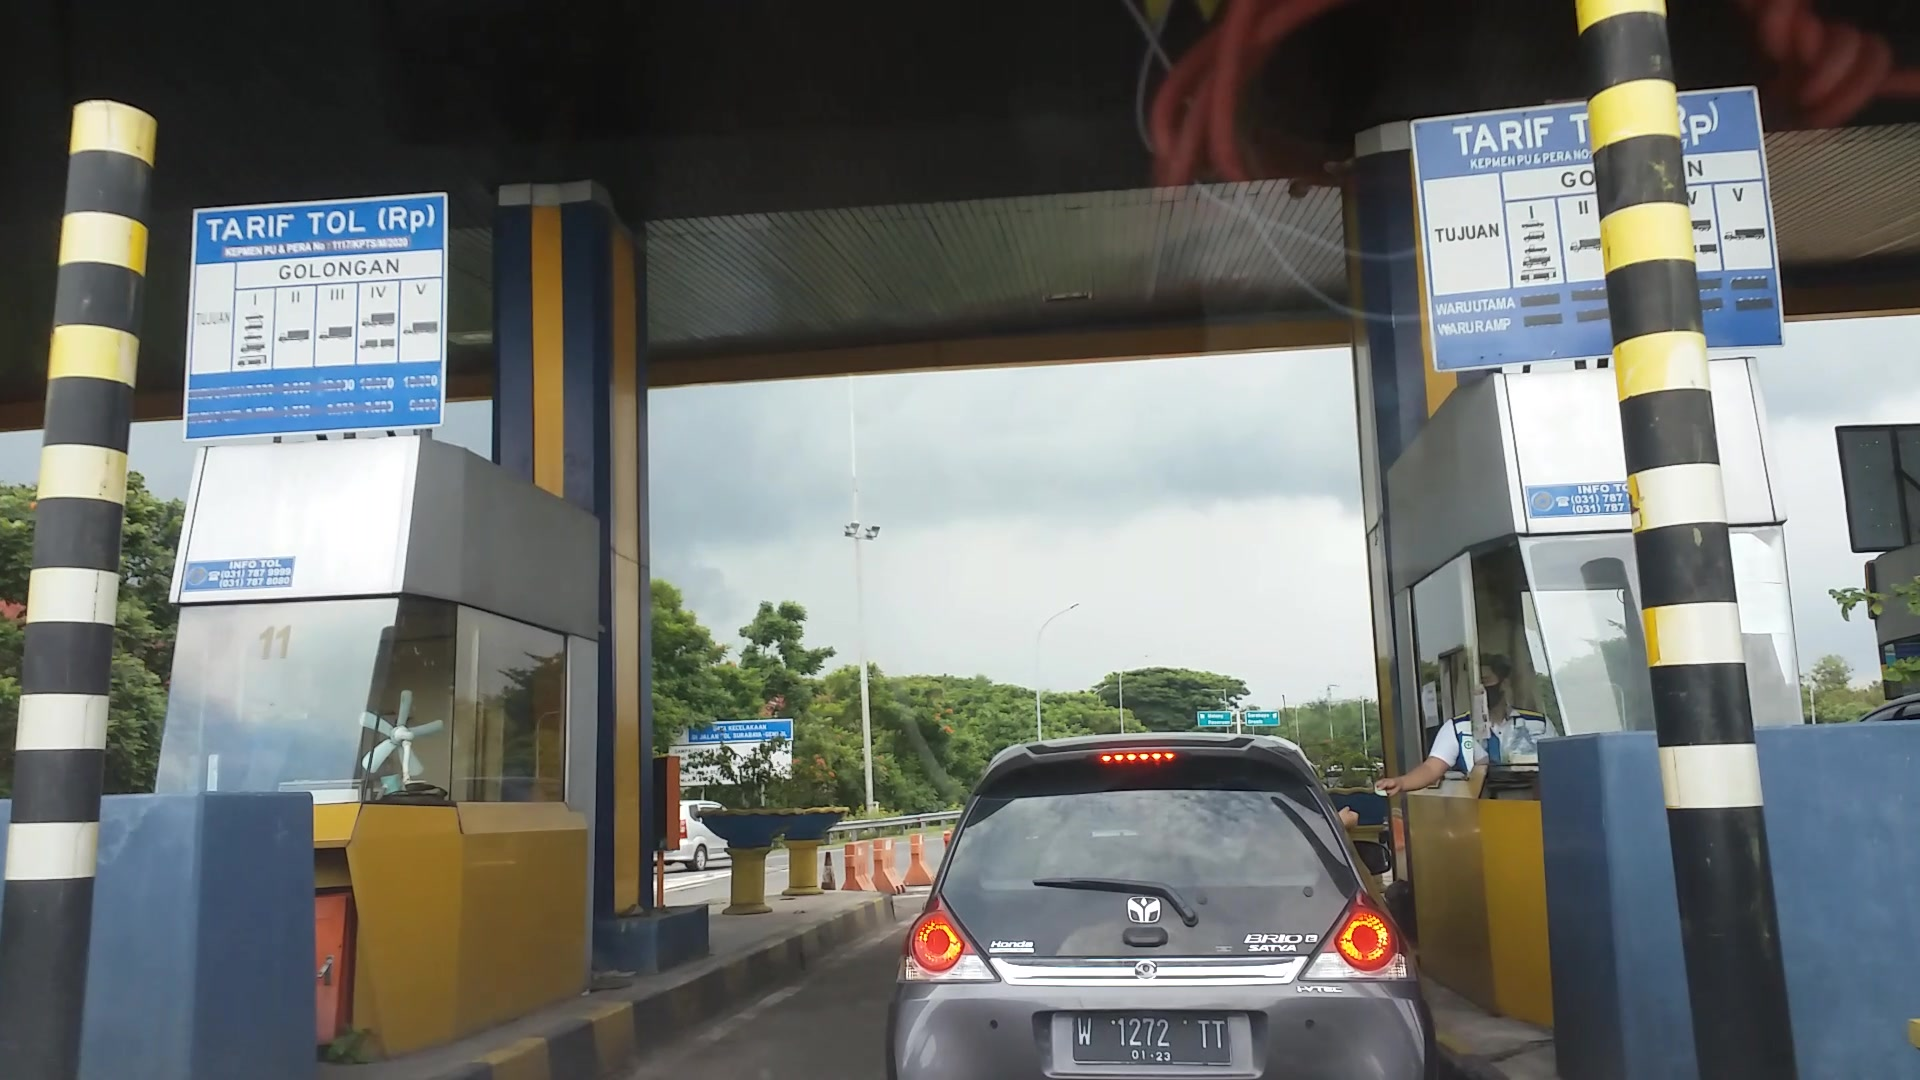plate_positive: (1072, 1011, 1232, 1065)
